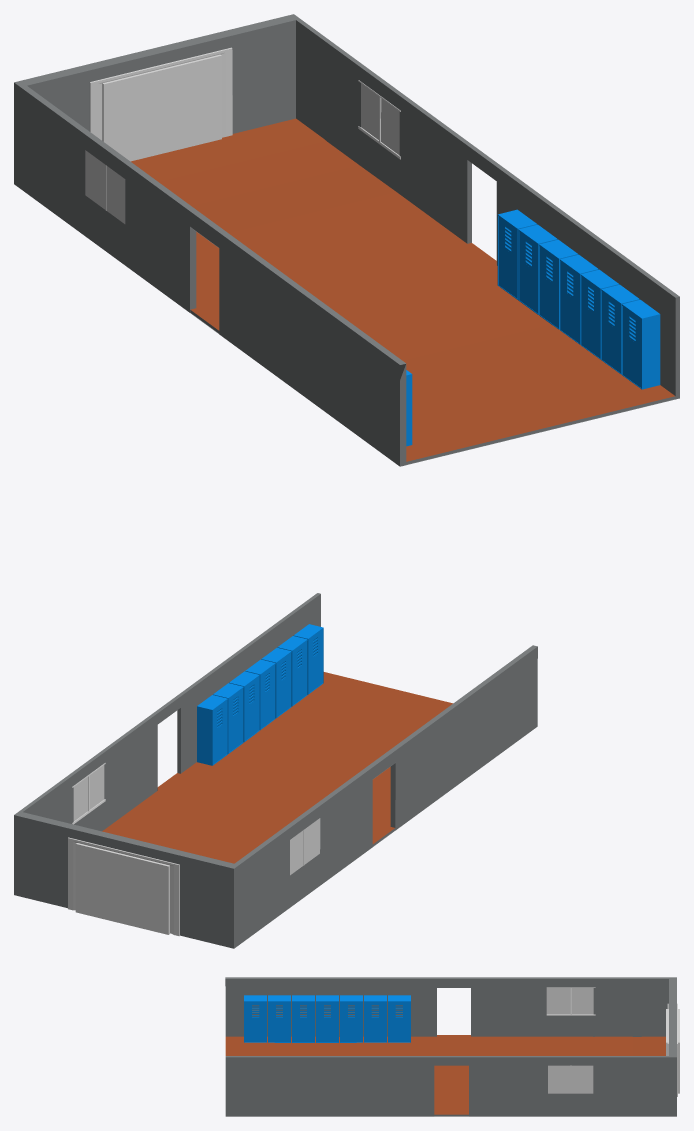
The model's file is koridor (1).fbx.
3 renders of one model, top to bottom at view 1: azimuth 30°, elevation 25°; view 2: azimuth 150°, elevation 25°; view 3: azimuth 270°, elevation 25°, orthographic. The views are drawn at different scales.
Parts seen in each view (by area): view 1: Cube, Cube.002, Door Cut, Door Frame, Plane.001, Plane.005; view 2: Cube, Cube.002, Door Cut, Door Frame, Plane.001, Plane.005; view 3: Cube, Cube.001, Plane.005, Plane.001, Cube.004, Door Cut, Cube.003.
Part boxes in pixels (x1,y1,x2,y2): Cube: (14, 14, 679, 466); Cube.002: (497, 209, 660, 389); Door Cut: (102, 54, 221, 161); Door Frame: (89, 47, 232, 140); Plane.001: (358, 80, 400, 159); Plane.005: (85, 150, 125, 223); Cube: (14, 593, 537, 948); Cube.002: (197, 624, 323, 765); Door Cut: (75, 843, 170, 934); Door Frame: (68, 837, 179, 936); Plane.001: (72, 763, 105, 824); Plane.005: (290, 818, 320, 875); Cube: (225, 977, 676, 1116); Cube.001: (268, 995, 410, 1042); Plane.005: (546, 987, 595, 1015); Plane.001: (548, 1065, 593, 1093); Cube.004: (244, 1002, 266, 1042); Door Cut: (666, 1009, 679, 1093); Cube.003: (244, 995, 266, 1042).
Bounding box in the file's own units: 577 × 200 × 2030.
